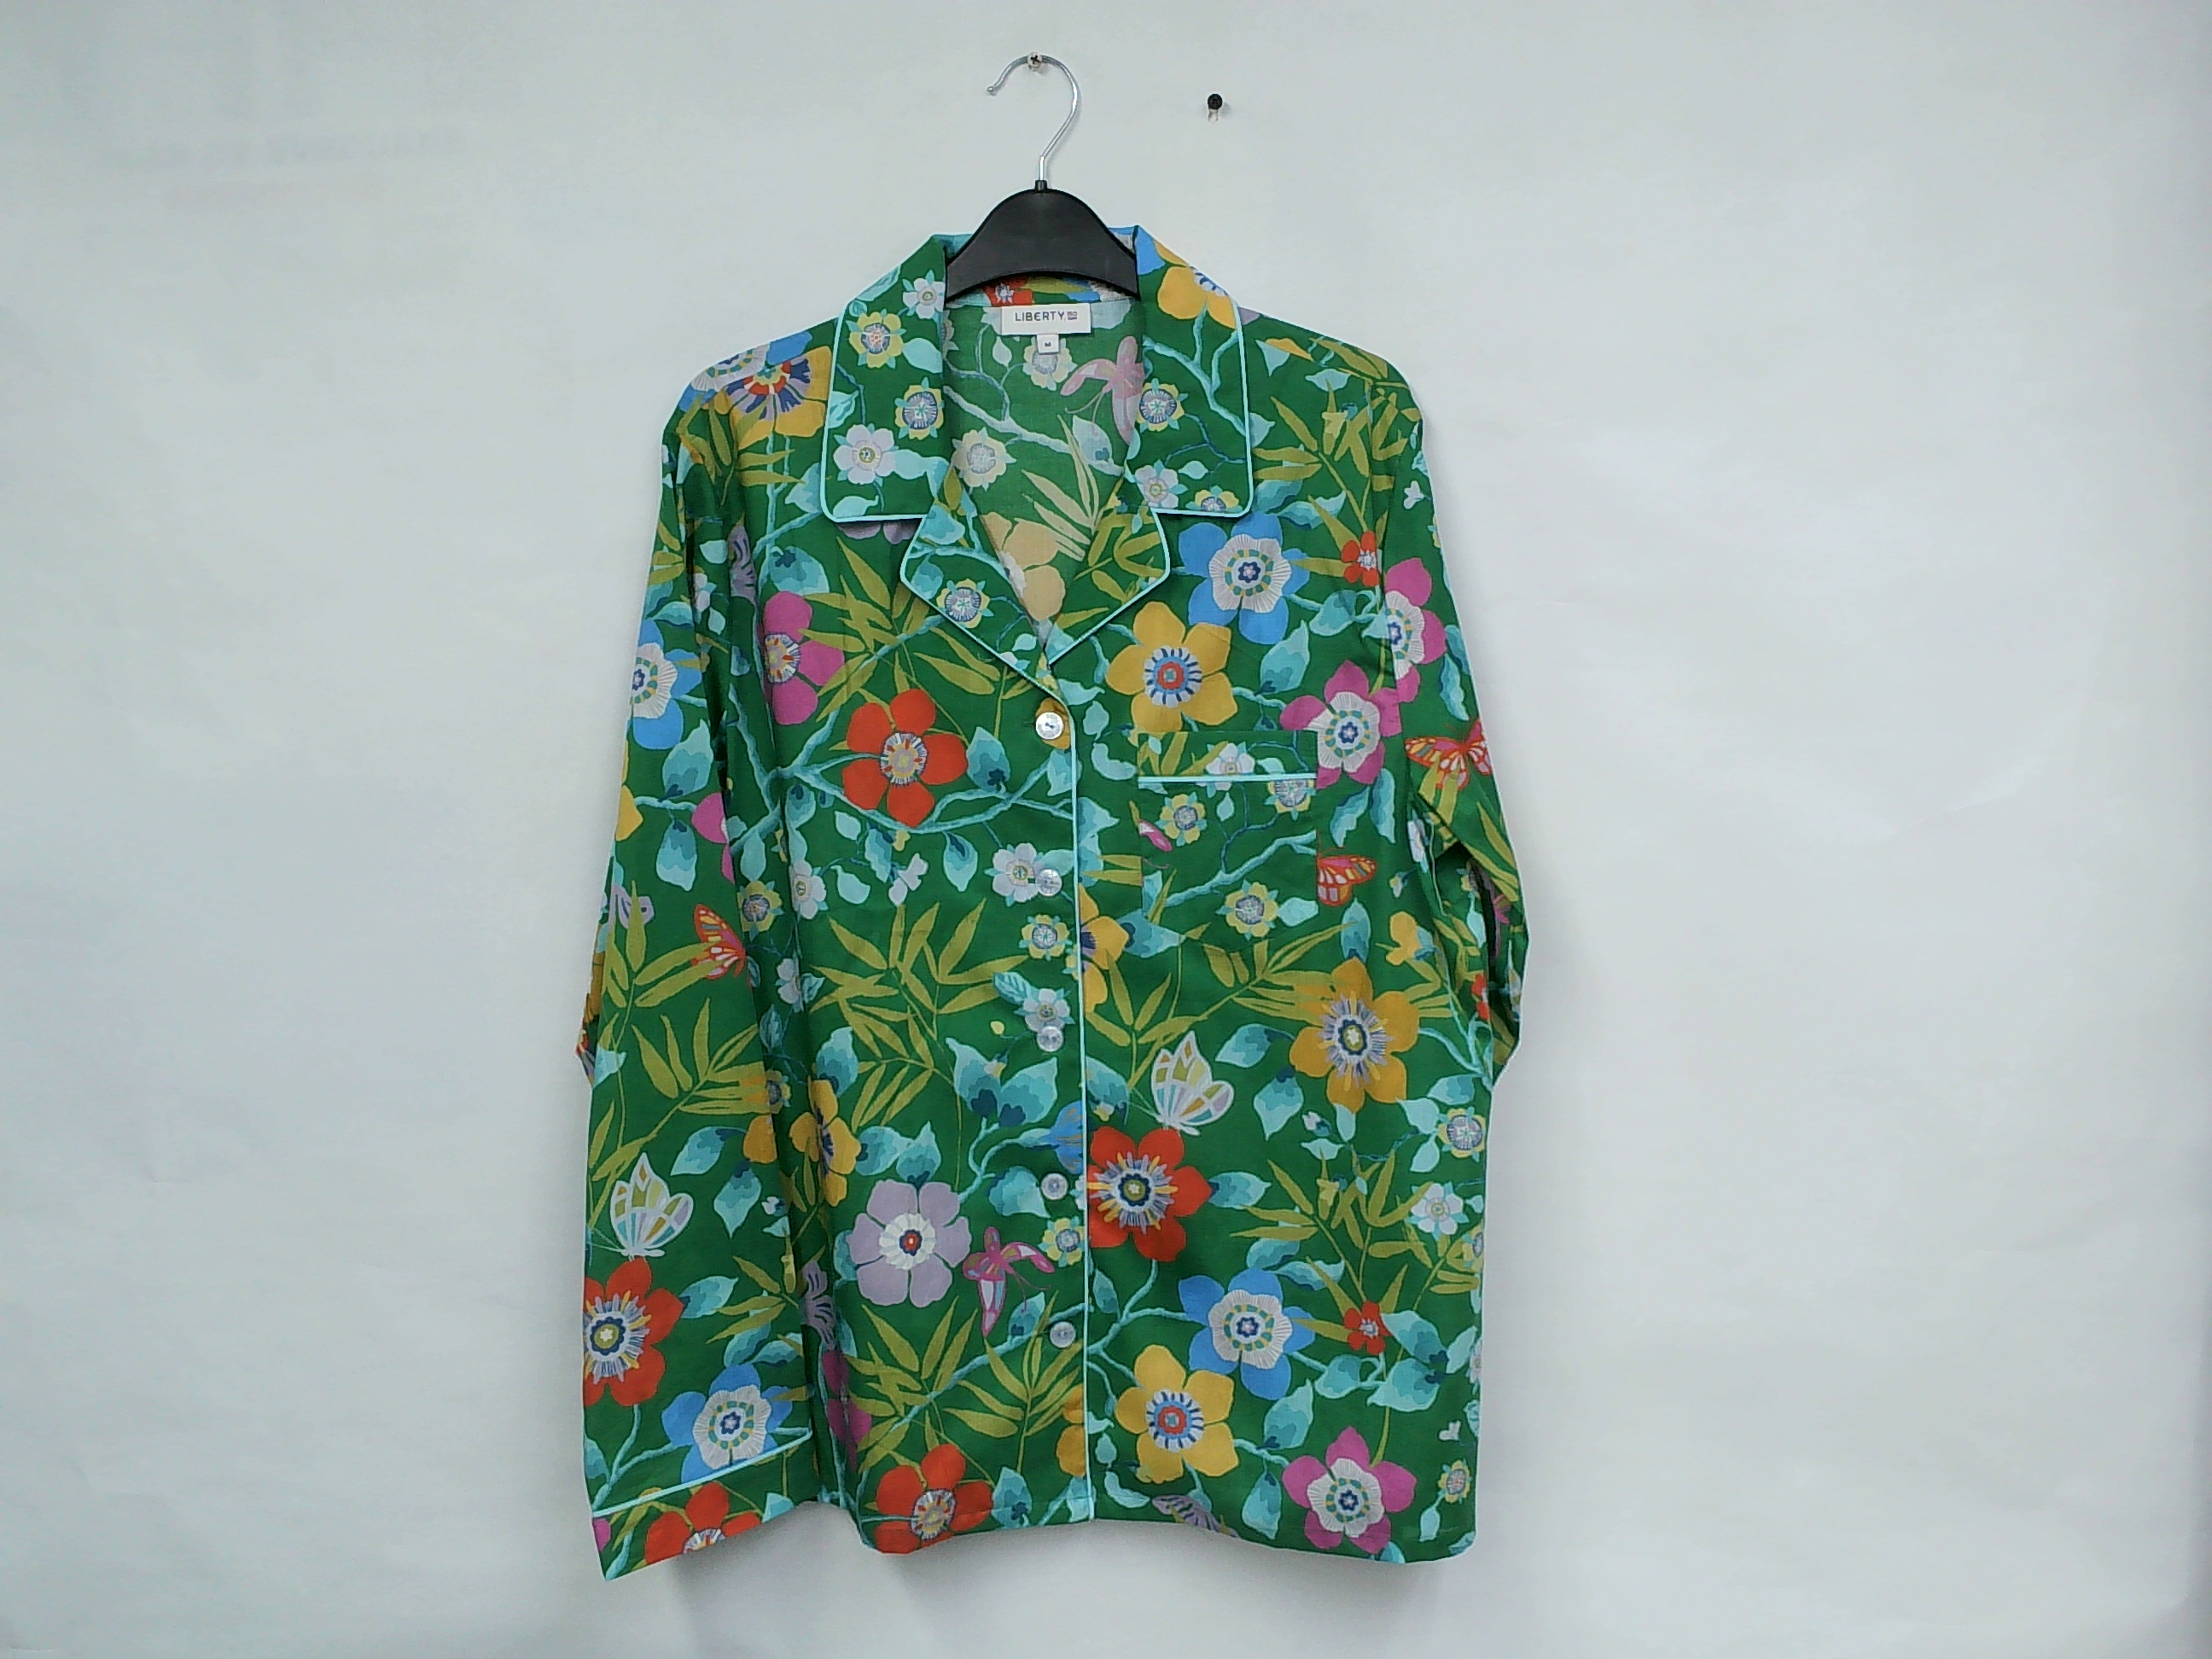wrinkles: (1367, 807, 1552, 1061)
